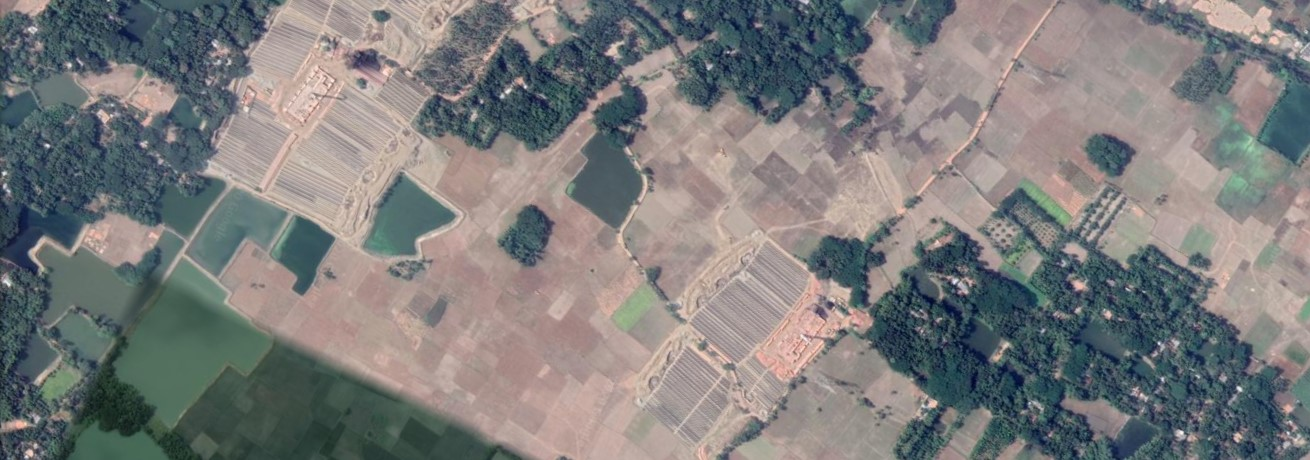kiln: (764, 307, 843, 365), (281, 64, 347, 123)
